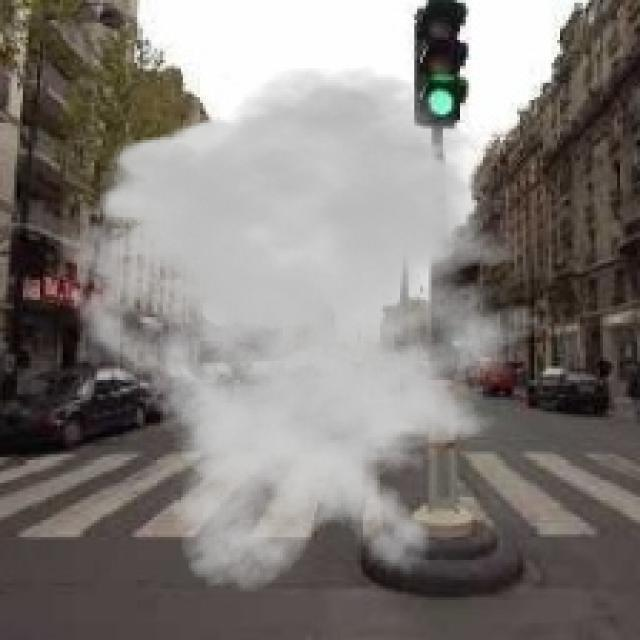Smoke: (46, 66, 574, 594)
